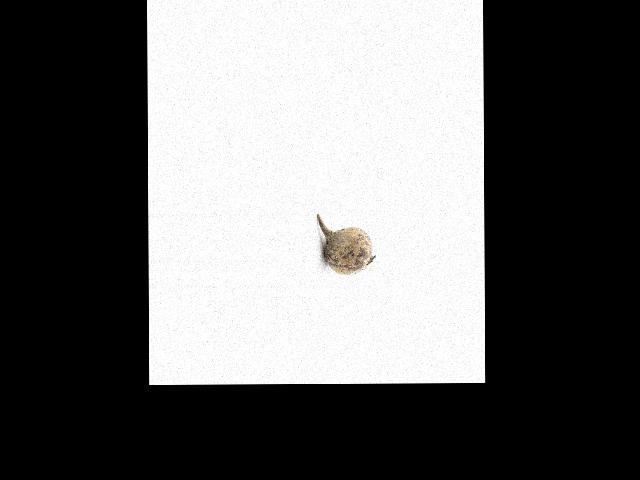beet: (316, 214, 375, 275)
